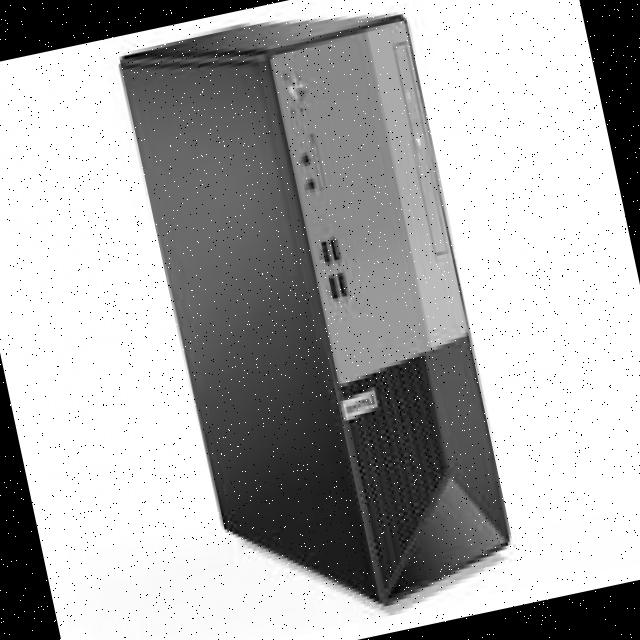Computer: (105, 0, 536, 638)
